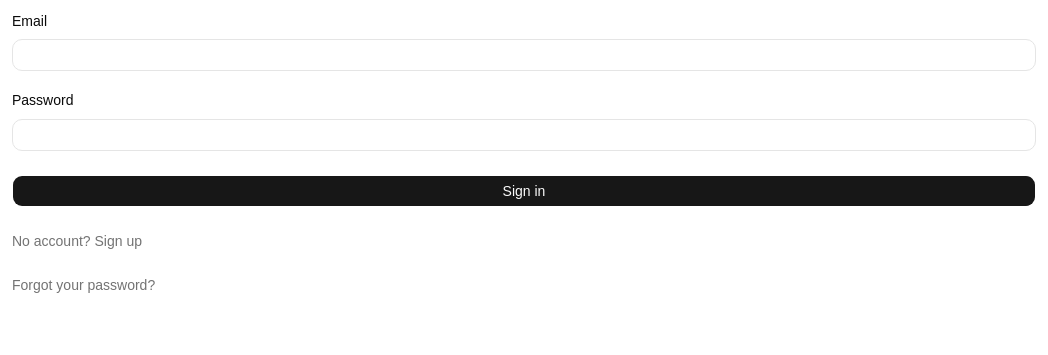
Test: SignIn › shows a rejected sign-in as a form-level error
Type "ana@example.com" into the field labelled "Email".
click(524, 55); type("ana@example.com")  # box [12,39,1036,71]
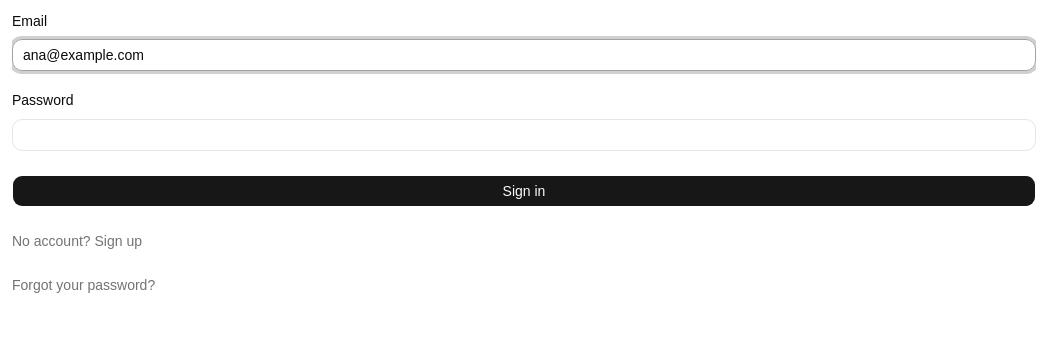
Type "wrong-password" into the password field labelled "Password".
click(524, 134); type("wrong-password")  # box [12,118,1036,150]
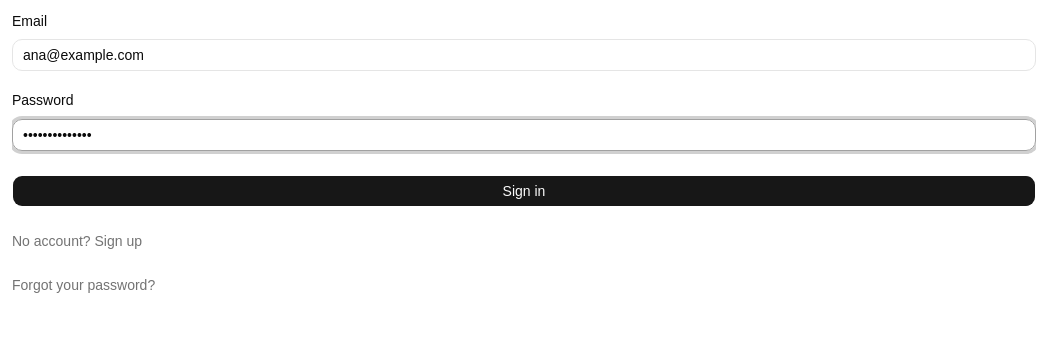
Click the button "Sign in".
click(524, 190)  # box [12,174,1036,206]
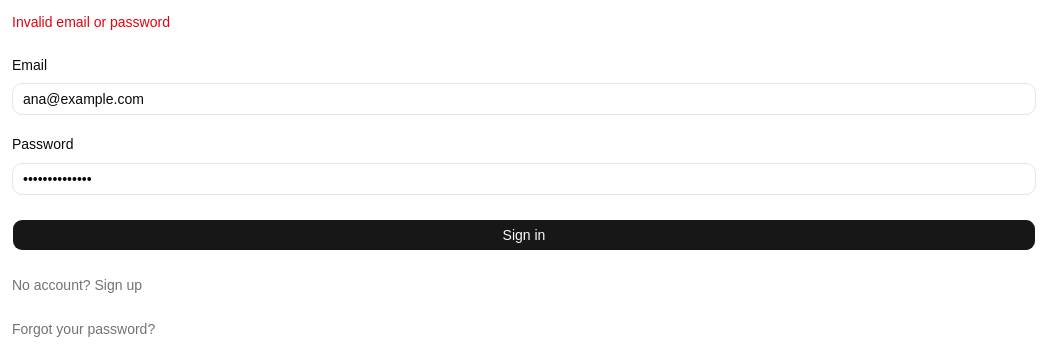
Result: the text "Invalid email or password" is shown at [12,14,170,30]
